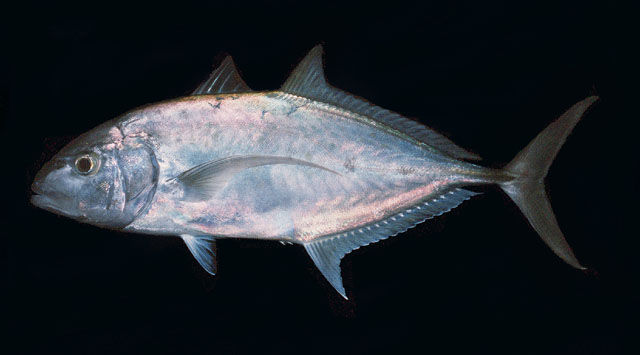fish: (31, 45, 600, 299)
